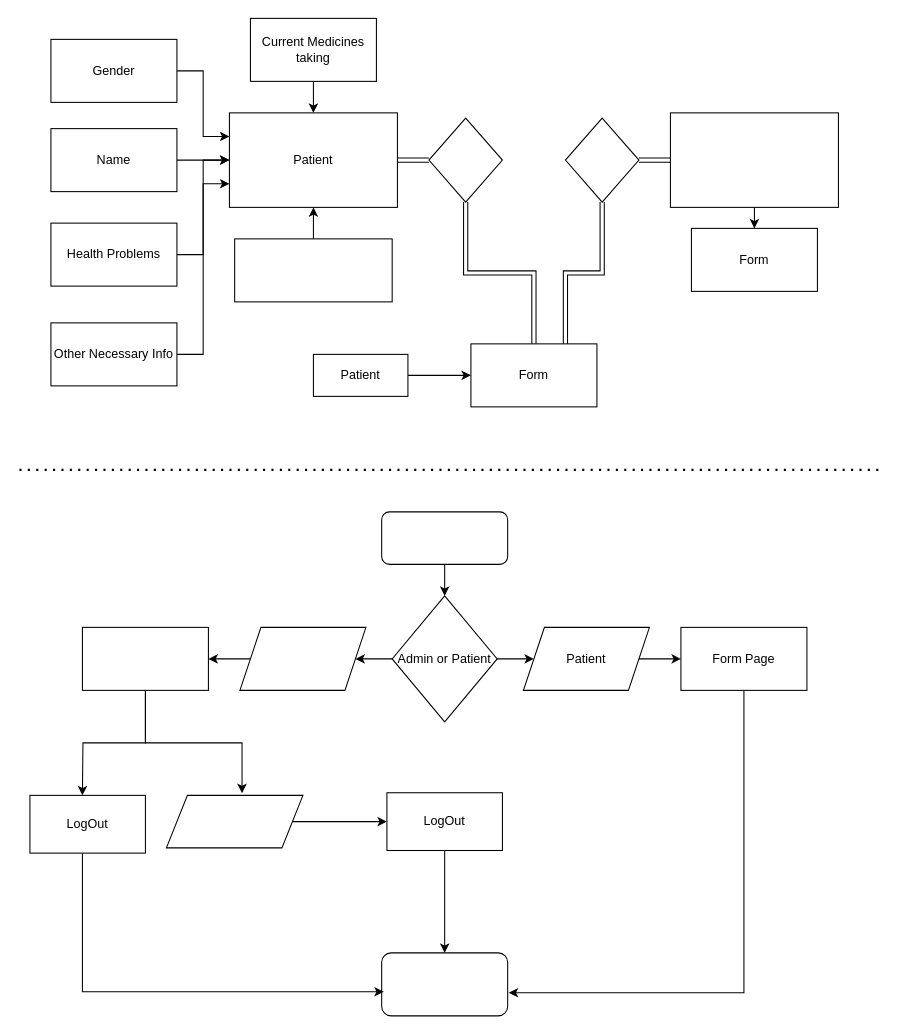
The diagram is 900 pixels wide and 1034 high, and some of its shapes have lost their labels. Here are the shapes that lost their labels. From the top down, the centre of each, then its label:
At [753,159]: "Hospital".
At [313,270]: "HEIGHT/WEIGHT/BMI".
At [444,537]: "Start".
At [144,658]: "Login Page".
At [302,658]: "Admin".
At [234,821]: "DataBase for Health Forms".
At [444,984]: "End".
